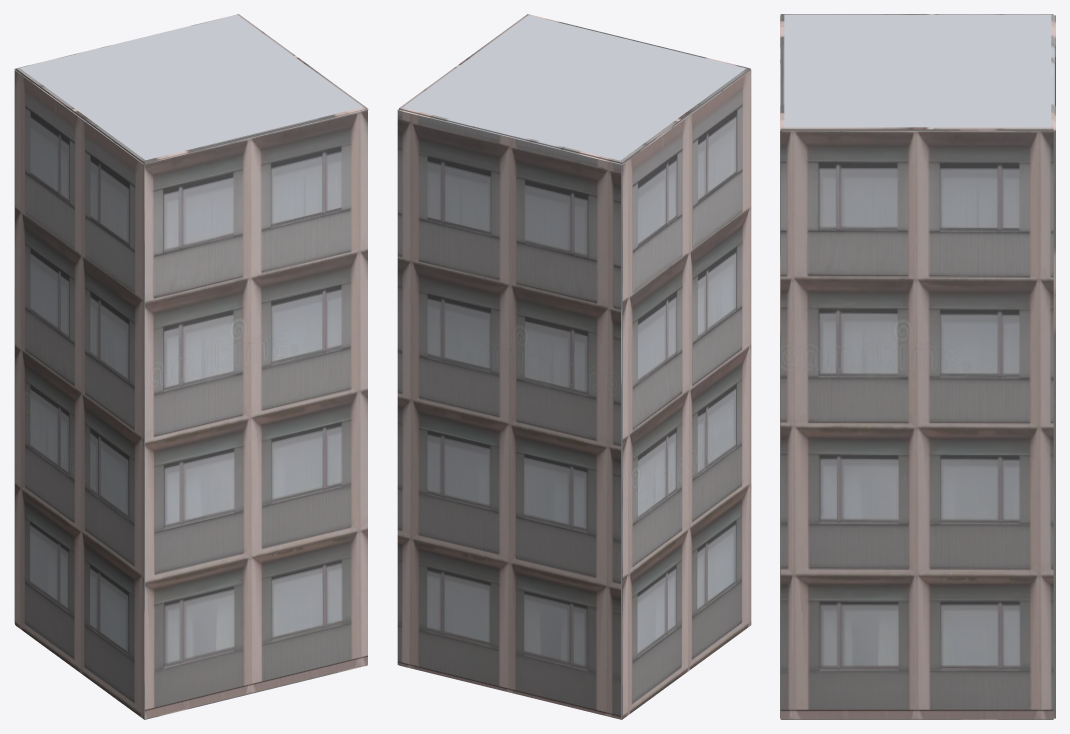
Rendered from Edificio5.obj.
The picture shows the model from 3 angles, left to right: view 1: azimuth 30°, elevation 25°; view 2: azimuth 150°, elevation 25°; view 3: azimuth 270°, elevation 25°; orthographic projection. The views are drawn at different scales.
Visible parts, largest first — view 1: Edificio_SinDiseno2:polySurface4; view 2: Edificio_SinDiseno2:polySurface4; view 3: Edificio_SinDiseno2:polySurface4.
Part boxes in pixels (x1,y1,x2,y2): Edificio_SinDiseno2:polySurface4: [14, 14, 368, 719]; Edificio_SinDiseno2:polySurface4: [397, 14, 751, 719]; Edificio_SinDiseno2:polySurface4: [780, 14, 1055, 719].
Bounding box in the file's own units: 5.37 × 12.75 × 5.39.
Materials: 1 (1 with a texture image).
